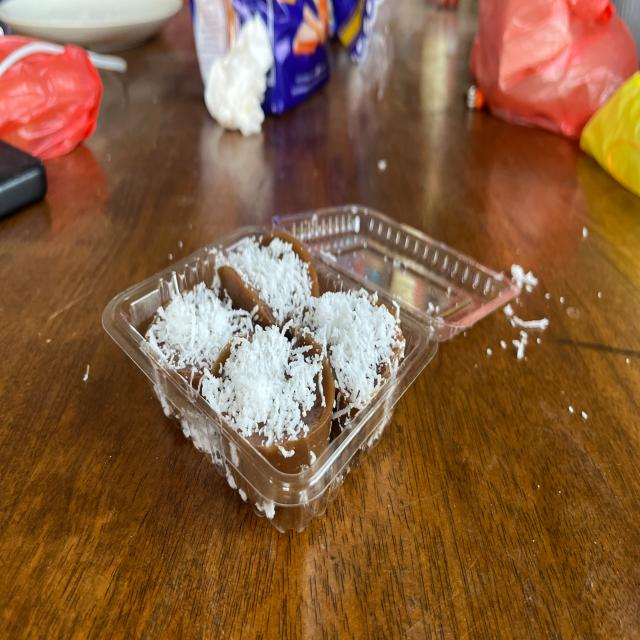Kuih lompang: (199, 324, 335, 473), (306, 289, 405, 429), (216, 236, 319, 327)
